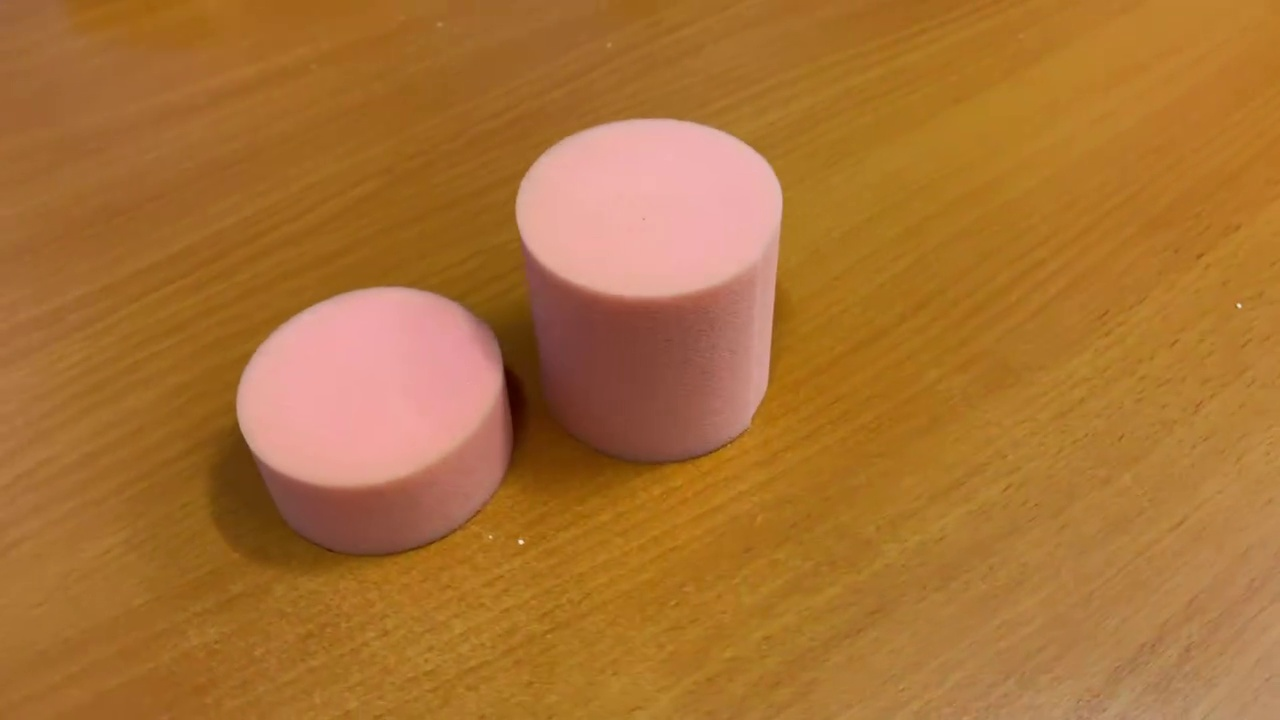Clyinder_short: (230, 281, 518, 561)
Cylinder: (514, 112, 783, 466)
